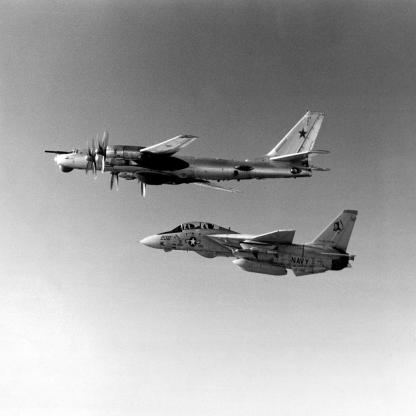F14: (137, 209, 361, 278)
Tu95: (45, 111, 334, 200)
